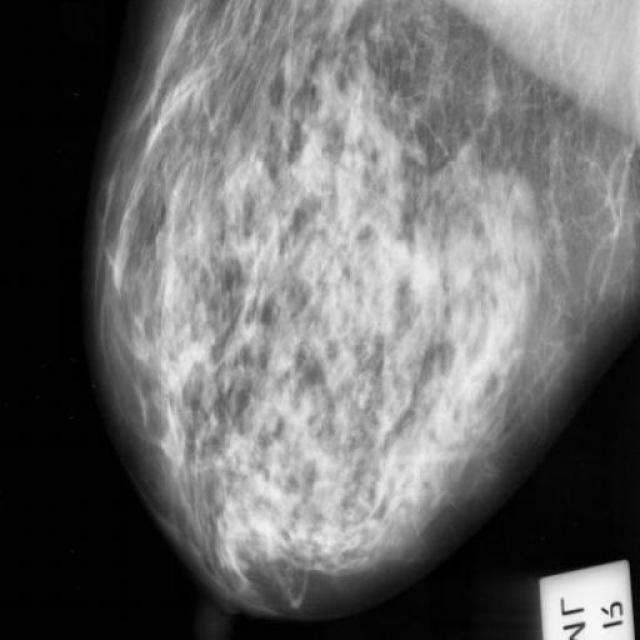cancer: (222, 497, 268, 558)
